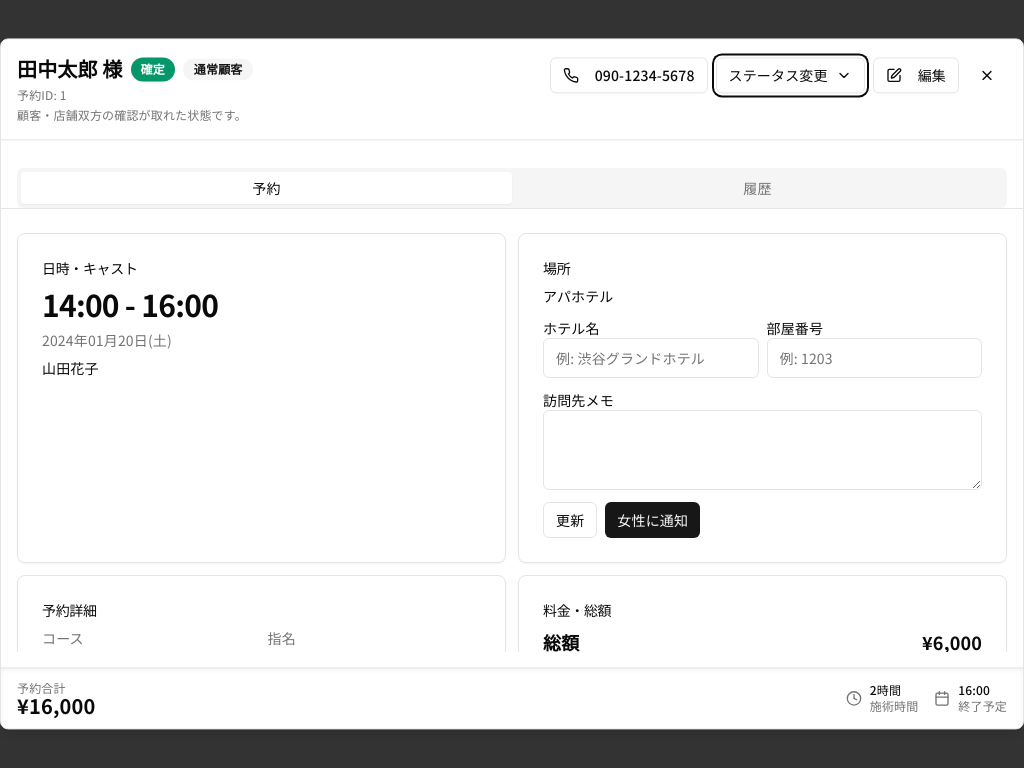
ReservationDialog Edit Mode › should toggle edit mode when edit button is clicked
The width and height of the screenshot is (1024, 768).
// Click edit button to enter edit mode
What coordinates should you click on to do the following:
click the button "編集"
I would click on:
 (916, 75)
Its box is [873,57,959,93].
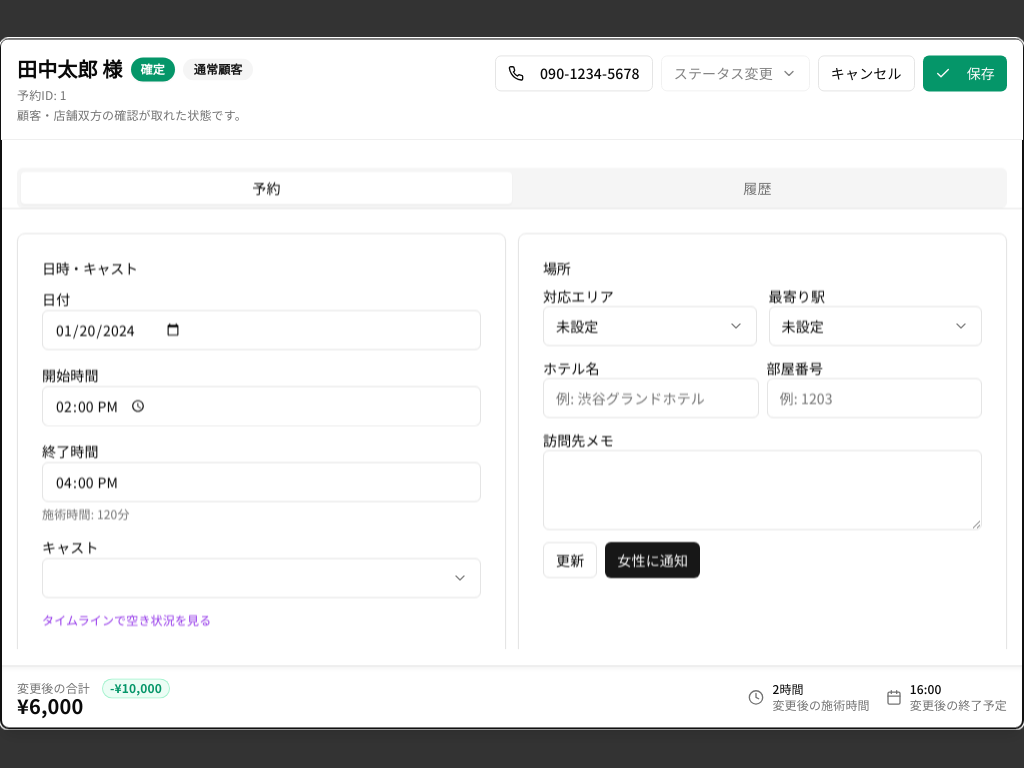
Expected: the button "保存" is shown, [923,55,1007,91]
Expected: the button "キャンセル" is shown, [818,55,915,91]
